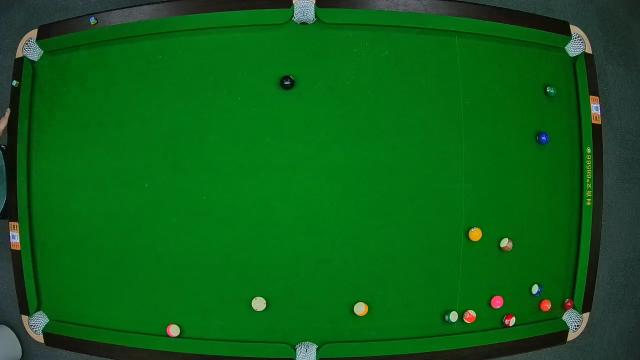bag1: (23, 41, 42, 61)
bag2: (294, 1, 318, 24)
bag3: (566, 35, 584, 59)
bag4: (28, 312, 48, 334)
bag5: (293, 342, 319, 360)
bag6: (562, 310, 582, 332)
ball0: (250, 296, 268, 312)
ball1: (468, 226, 482, 243)
ball10: (530, 282, 544, 298)
ball11: (501, 314, 517, 329)
ball13: (463, 308, 477, 324)
ball14: (443, 310, 459, 324)
ball15: (500, 236, 514, 252)
ball2: (534, 131, 550, 145)
ball3: (562, 296, 576, 310)
ball4: (492, 294, 504, 310)
ball5: (540, 299, 554, 313)
ball6: (544, 82, 558, 98)
ball8: (280, 74, 296, 90)
ball9: (352, 301, 370, 316), (166, 322, 180, 338)
